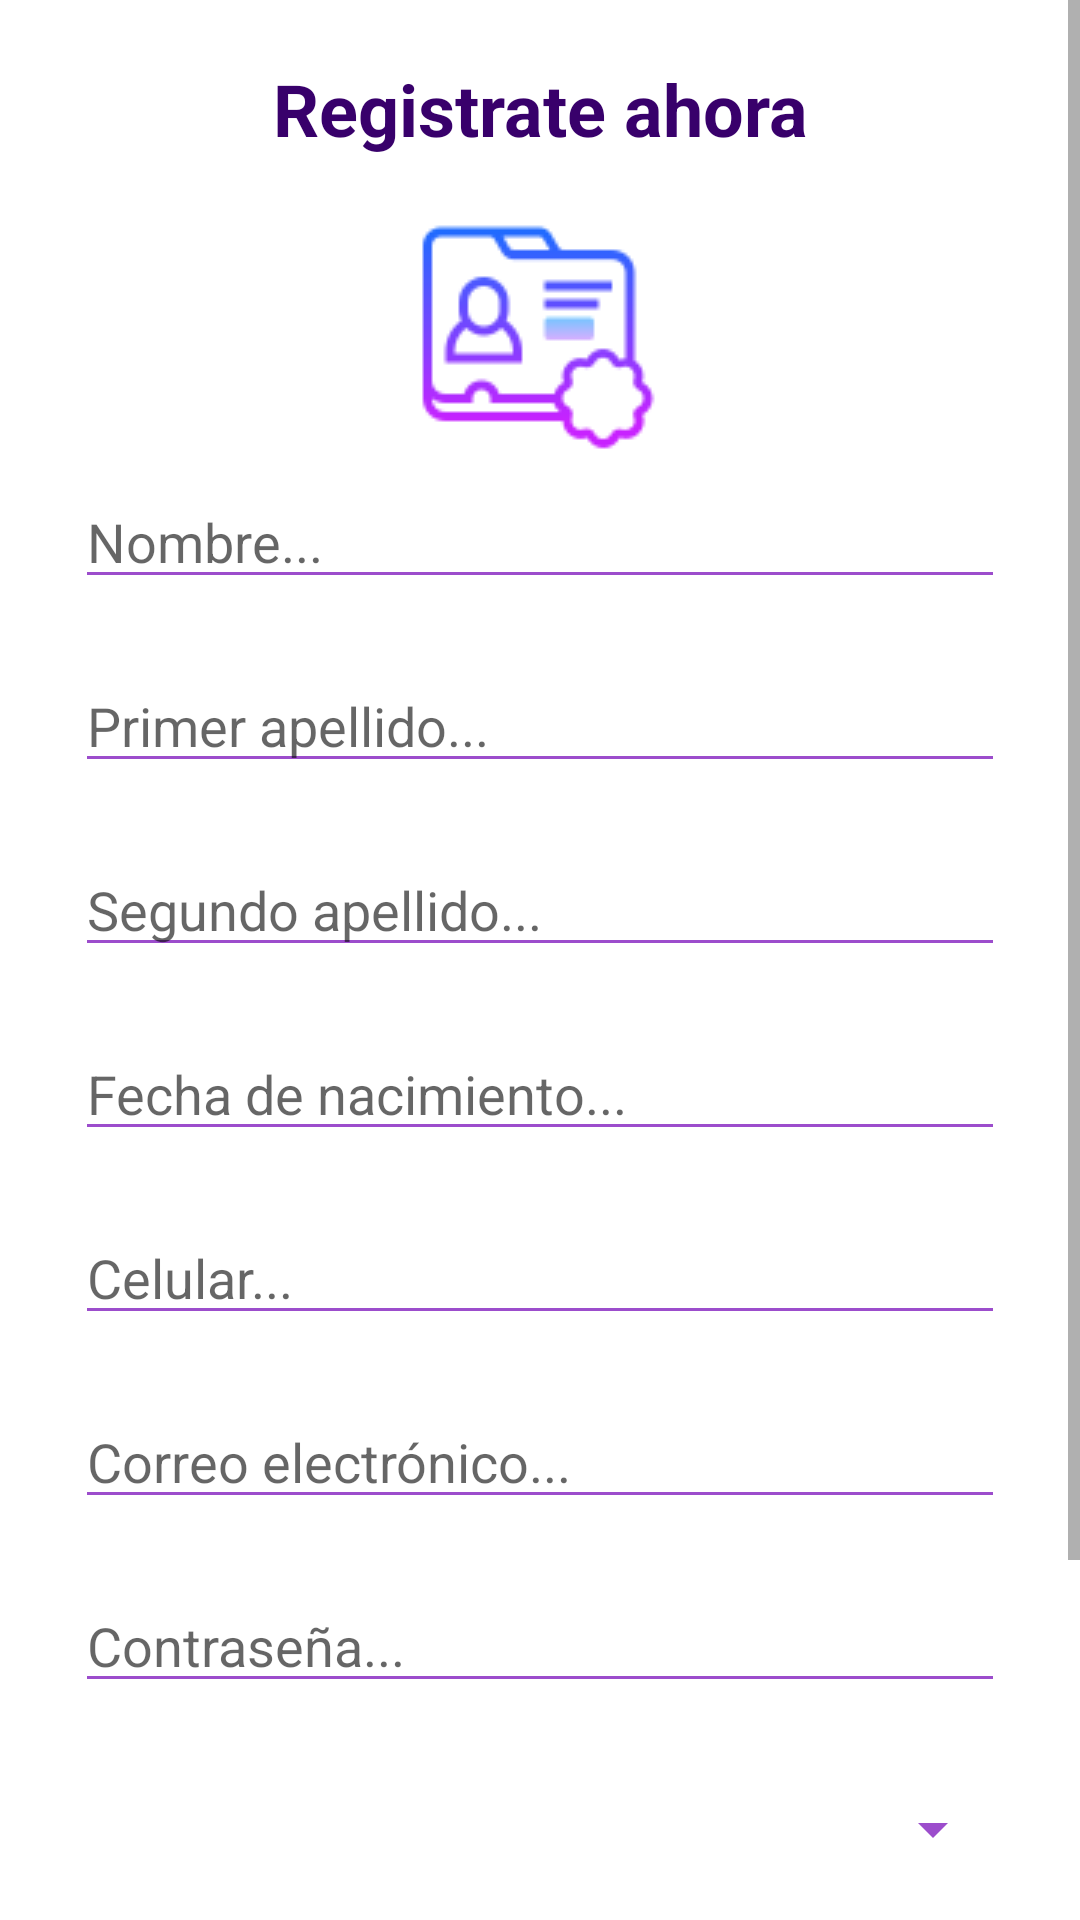

Named icons in this screenshot (1080 x 1920) and their bounding boxes, (x1, y1, x2, y2):
newuser: (422, 225, 655, 449)
